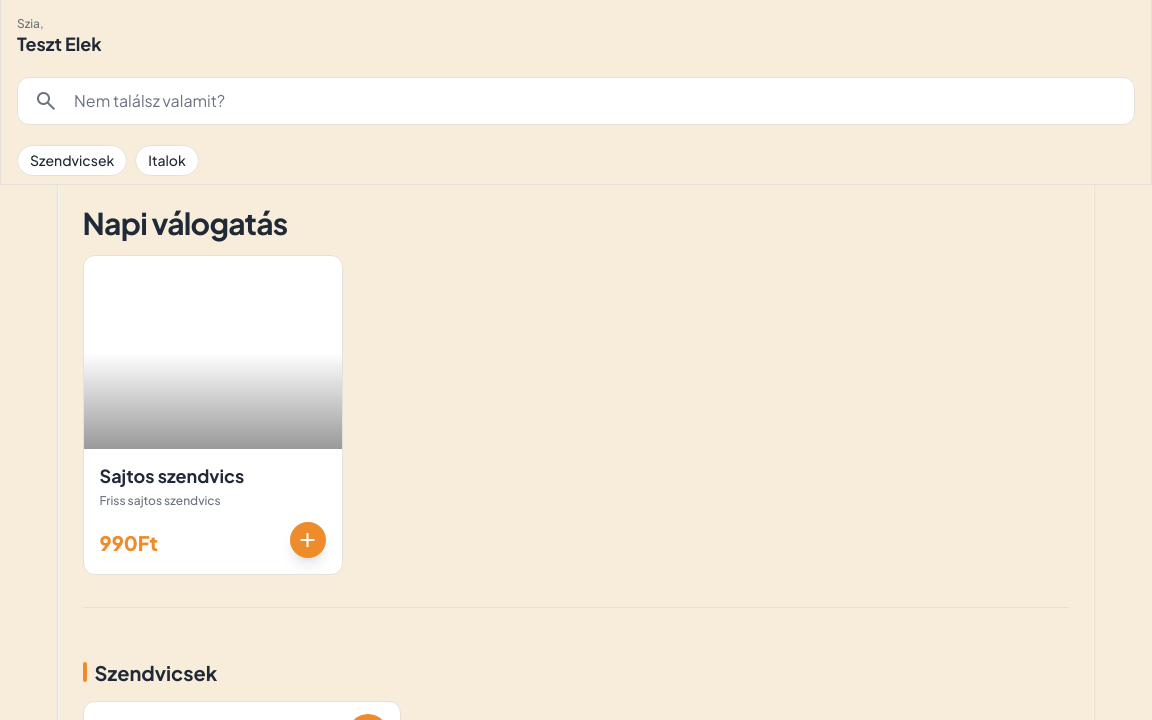
Test: main page › shows no-results state for unmatched search
Type "nincstalalat123" into the field with test id "main-search-input".
click(600, 101); type("nincstalalat123")  # box [66,78,1134,124]
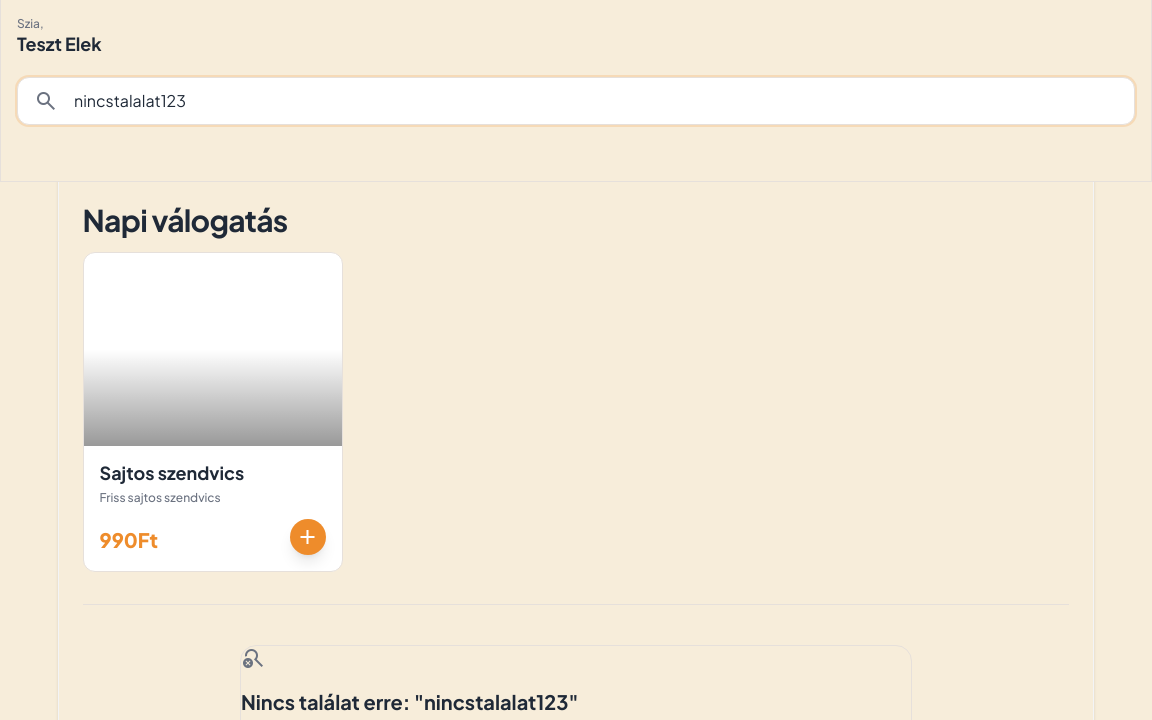
Expected: the element with test id "main-no-results" shows "Nincs találat erre", [240,645,912,719]
